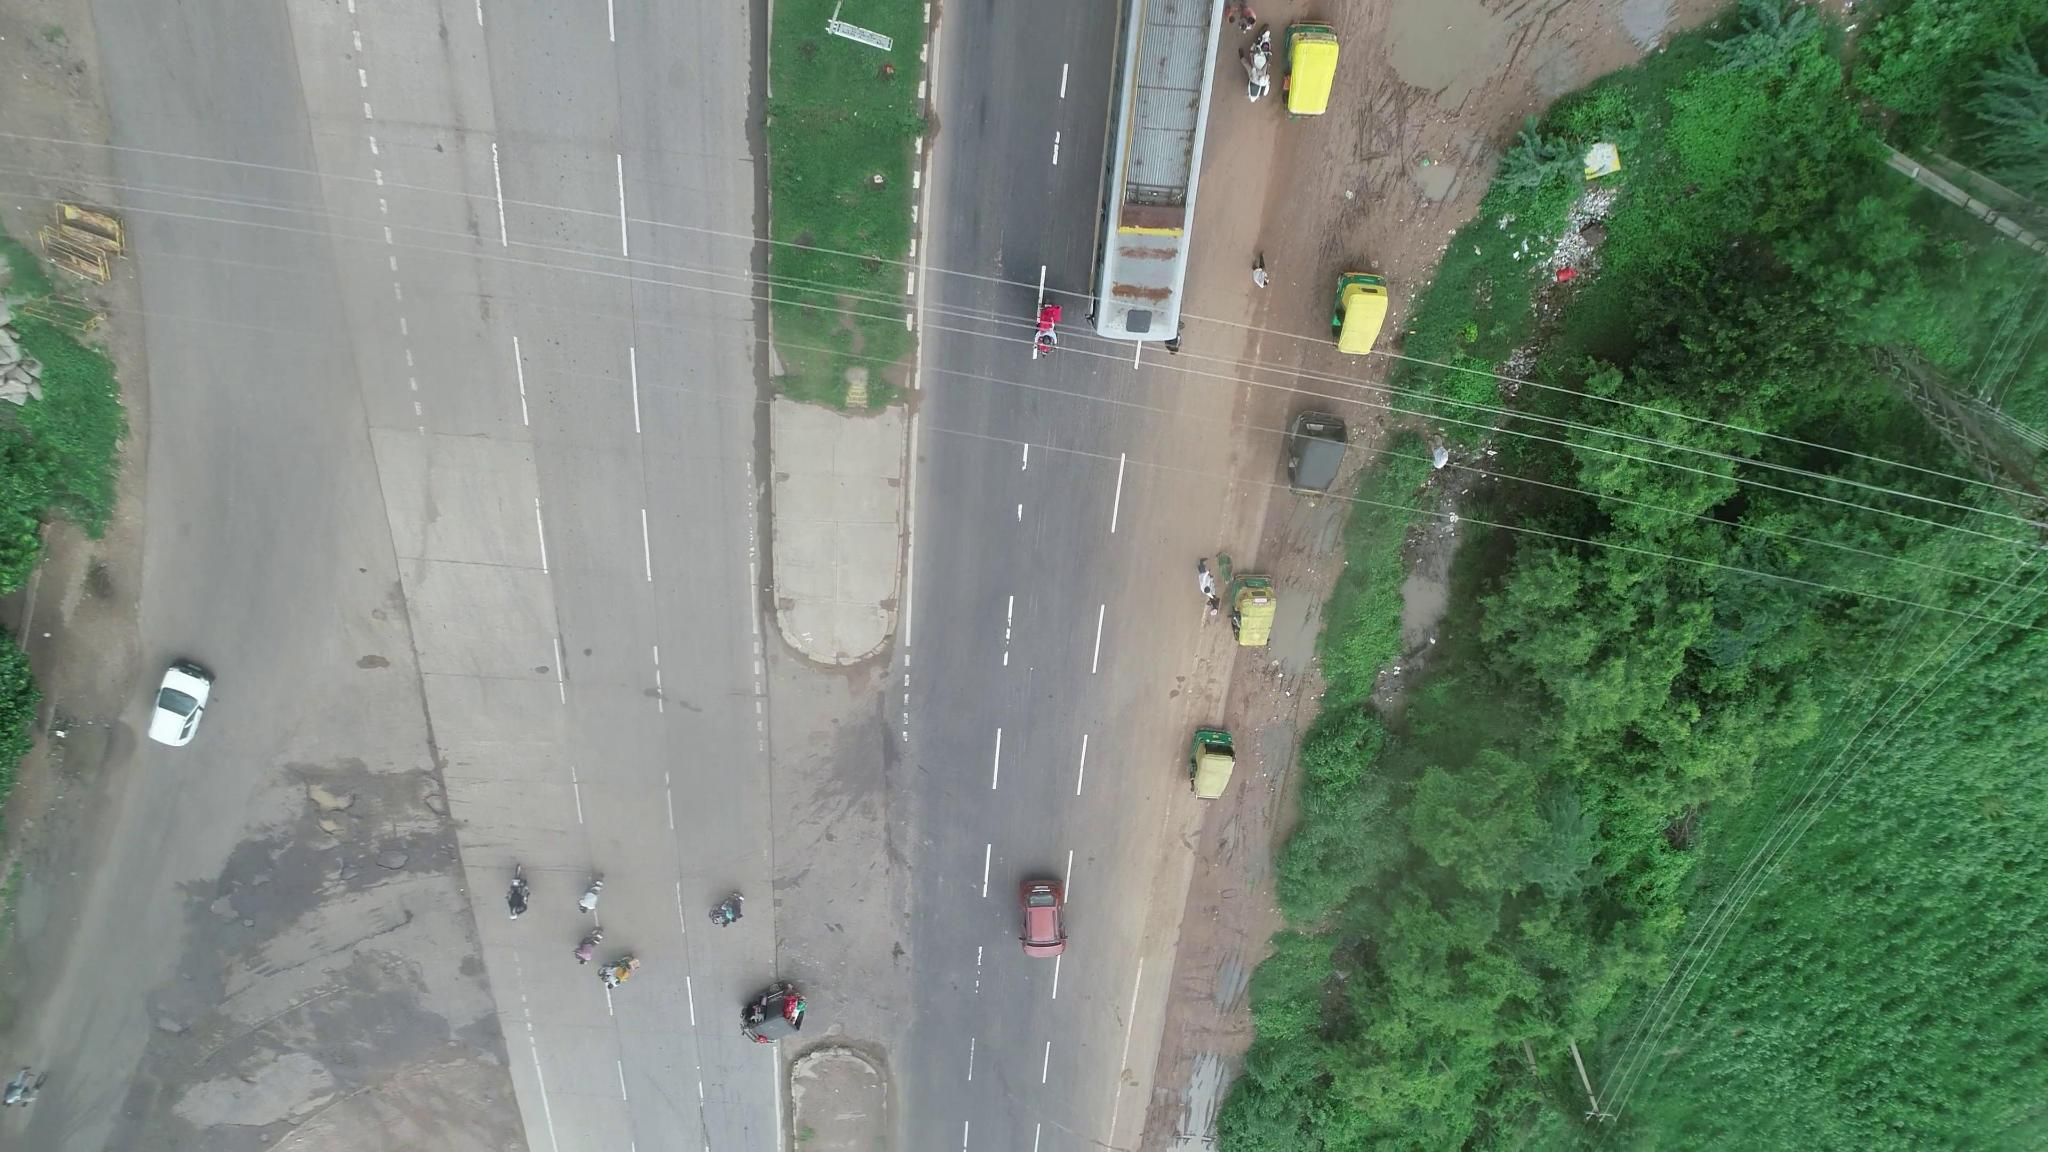Potholes: (293, 753, 442, 890), (196, 858, 279, 942), (115, 986, 214, 1056)
